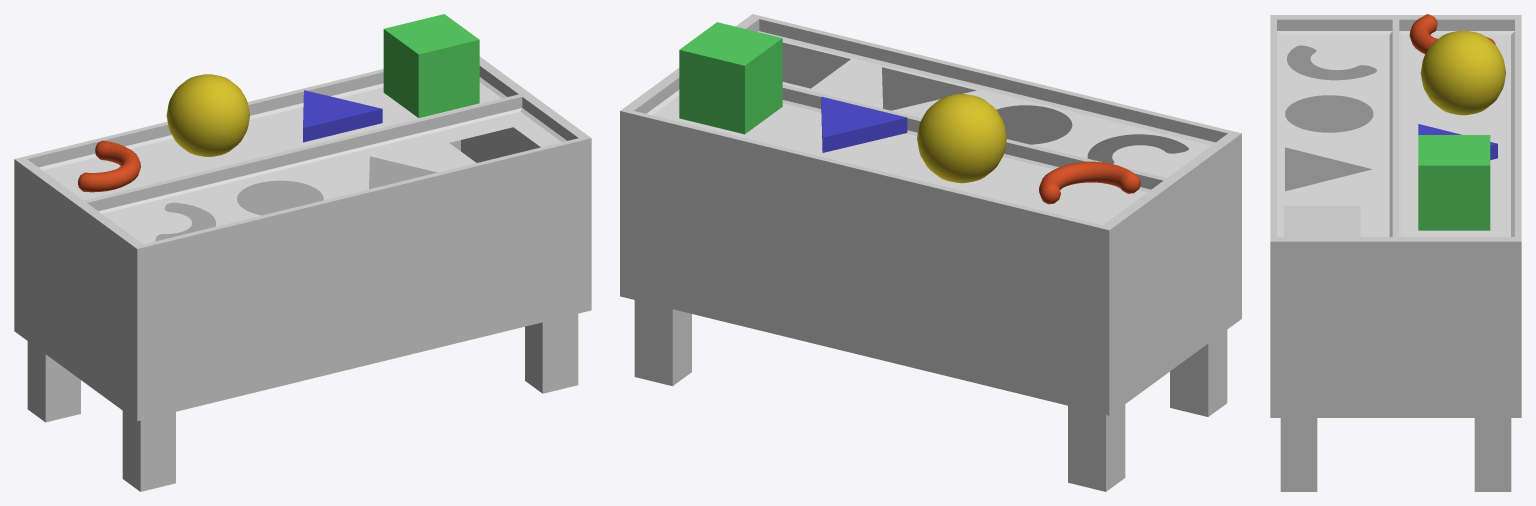
File: tutorial.fbx
3 renders of one model, left to right at view 1: azimuth 30°, elevation 25°; view 2: azimuth 150°, elevation 25°; view 3: azimuth 270°, elevation 25°, orthographic. The views are drawn at different scales.
Parts seen in each view (by area): view 1: Table, Cube, Torus hole, Sphere, triangle hole, sphere hole, box hole, Triangle, Torus; view 2: Table, Cube, Torus hole, Sphere, triangle hole, sphere hole, Triangle, box hole, Torus; view 3: Table, Cube, sphere hole, Torus hole, triangle hole, Sphere, box hole, Torus, Triangle.
Boxes of the visible parts, bbox=[...] form: Table: bbox=[14, 56, 591, 491]; Cube: bbox=[383, 14, 479, 117]; Torus hole: bbox=[43, 146, 240, 244]; Sphere: bbox=[166, 74, 249, 156]; triangle hole: bbox=[249, 94, 454, 194]; sphere hole: bbox=[140, 122, 347, 220]; box hole: bbox=[354, 82, 561, 168]; Triangle: bbox=[303, 90, 382, 142]; Torus: bbox=[78, 140, 140, 192]; Table: bbox=[620, 14, 1241, 491]; Cube: bbox=[679, 22, 782, 134]; Torus hole: bbox=[998, 120, 1211, 225]; Sphere: bbox=[917, 94, 1006, 183]; triangle hole: bbox=[767, 64, 990, 171]; sphere hole: bbox=[883, 92, 1106, 199]; Triangle: bbox=[821, 96, 907, 152]; box hole: bbox=[652, 41, 875, 143]; Torus: bbox=[1039, 161, 1140, 204]; Table: bbox=[1270, 15, 1521, 491]; Cube: bbox=[1418, 135, 1490, 230]; sphere hole: bbox=[1281, 88, 1510, 141]; Torus hole: bbox=[1281, 34, 1510, 87]; triangle hole: bbox=[1281, 141, 1510, 194]; Sphere: bbox=[1420, 30, 1505, 115]; box hole: bbox=[1281, 195, 1510, 236]; Torus: bbox=[1409, 14, 1495, 54]; Triangle: bbox=[1418, 124, 1497, 159].
Bounding box in the file's own units: 195 × 127 × 91.19.
